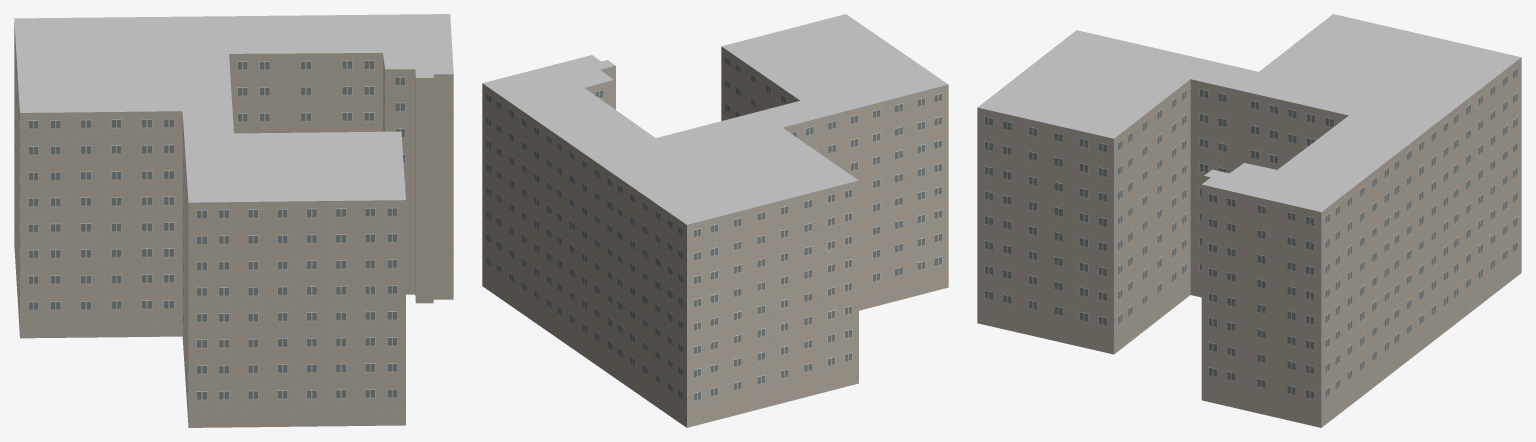
The model's file is building-0-0-191.dae.
3 renders of one model, left to right at view 1: azimuth 30°, elevation 25°; view 2: azimuth 150°, elevation 25°; view 3: azimuth 270°, elevation 25°, orthographic. The views are drawn at different scales.
Parts seen in each view (by area): view 1: geopipeinodeGNL3huCl (×3); view 2: geopipeinodeGNL3huCl (×3); view 3: geopipeinodeGNL3huCl (×3).
Boxes of the visible parts, bbox=[...] form: geopipeinodeGNL3huCl (×3): bbox=[14, 14, 453, 427]; geopipeinodeGNL3huCl (×3): bbox=[482, 14, 948, 427]; geopipeinodeGNL3huCl (×3): bbox=[977, 14, 1521, 427].
Bounding box in the file's own units: 67.95 × 78.84 × 34.5.
